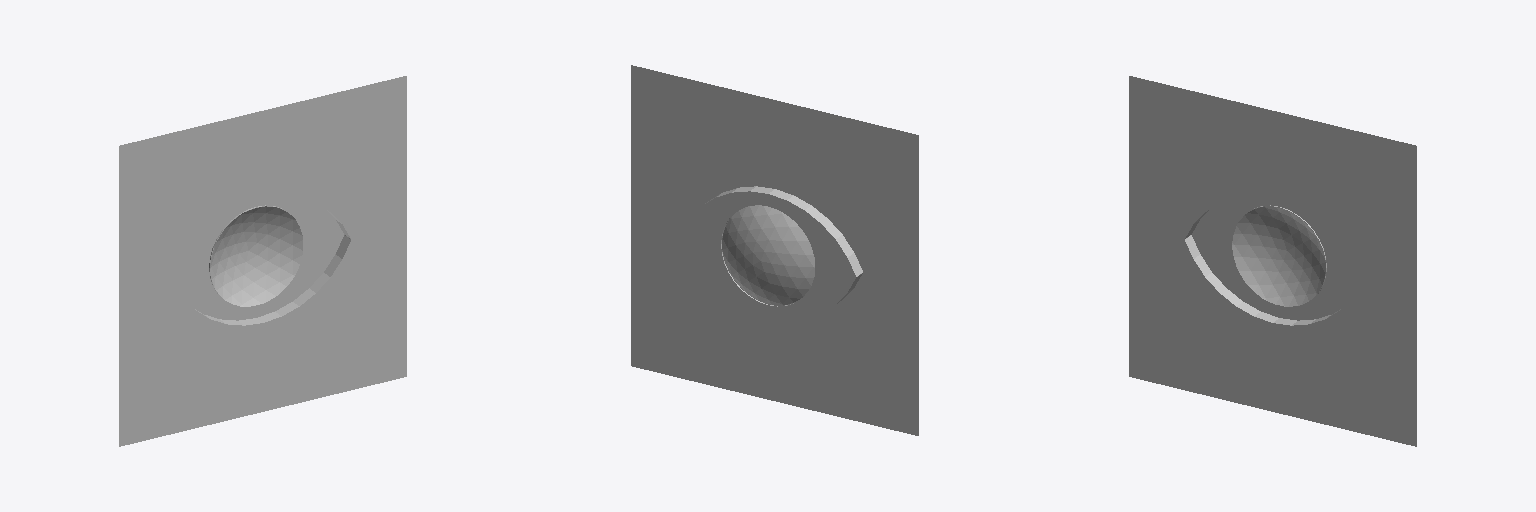
The model's file is transdec.obj.
The picture shows the model from 3 angles: view 1: azimuth 30°, elevation 25°; view 2: azimuth 150°, elevation 25°; view 3: azimuth 330°, elevation 25°; orthographic projection.
Visible parts, largest first — view 1: result_Cube; view 2: result_Cube; view 3: result_Cube.
Boxes of the visible parts, x1=… form: result_Cube: x1=119, y1=76, x2=406, y2=446; result_Cube: x1=631, y1=65, x2=918, y2=435; result_Cube: x1=1129, y1=76, x2=1416, y2=446.
Size of the model in its own units: 150 by 150 by 12.94.